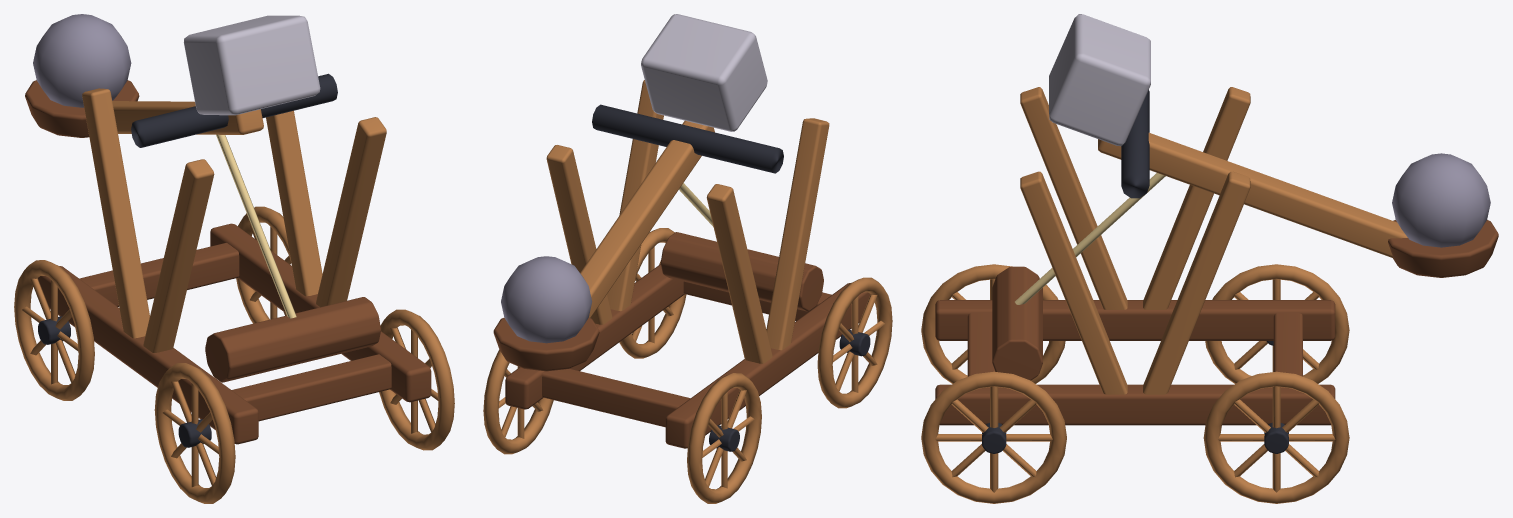
File: faire_catapult.glb
The picture shows the model from 3 angles, left to right: view 1: azimuth 30°, elevation 25°; view 2: azimuth 150°, elevation 25°; view 3: azimuth 270°, elevation 25°; orthographic projection. The views are drawn at different scales.
Parts seen in each view (by area): view 1: Catapult; view 2: Catapult; view 3: Catapult.
Part boxes in pixels (box(x1,y1,x2,y2)): Catapult: box(14, 14, 454, 503); Catapult: box(483, 14, 892, 503); Catapult: box(921, 14, 1498, 503).
Bounding box in the file's own units: 2.38 × 3.9 × 4.91.
